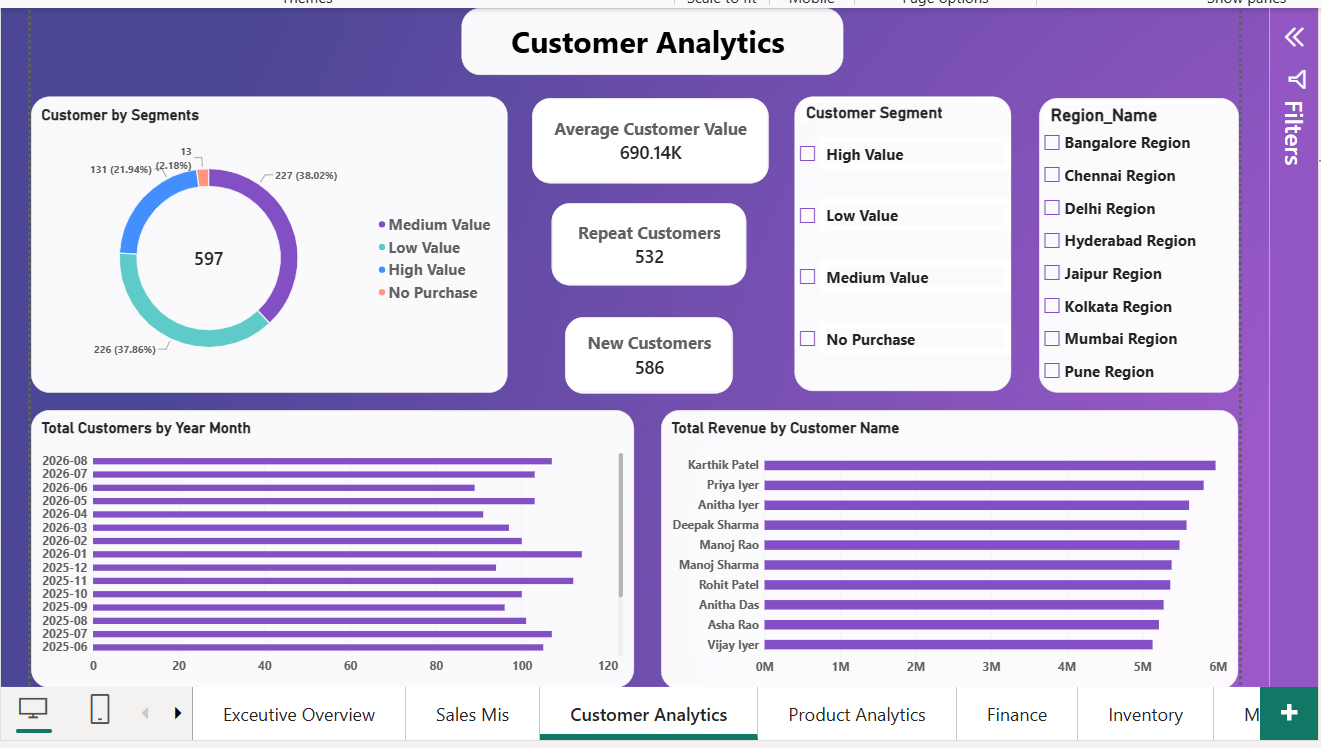

The page's visual inventory and layout, read from the dashboard file:
{"tool":"powerbi","page":{"name":"Customer Analytics ","canvas":[1920,1080],"ordinal":2},"visuals":[{"type":"cardVisual","fields":{"Data":["Measures (2).New Customers"]},"box":[850.1,490.6,267.2,121.7],"z":0},{"type":"cardVisual","fields":{"Data":["Measures (2).Repeat Customers"]},"box":[828.2,310.9,310.2,131.2],"z":1000},{"type":"cardVisual","fields":{"Data":["Measures (2).Average Customer Value"]},"box":[796.7,143.3,377,136],"z":2000},{"type":"donutChart","title":"Customer by Segments","fields":{"Category":["Customer.Customer Segment"],"Y":["CountNonNull(Customer.Customer_ID)"]},"box":[0,140.9,757.8,471.2],"z":3000},{"type":"clusteredBarChart","title":"Total Revenue by Customer Name","fields":{"Category":["Customer.Customer_Name"],"Y":["Measures (2).Total Revenue"]},"box":[1003.1,638.8,918.1,444.5],"z":4000},{"type":"clusteredBarChart","fields":{"Category":["Date Table.Year Month"],"Y":["Measures (2).Total Customers"]},"box":[0,638.8,959.4,442],"z":5000},{"type":"slicer","fields":{"Values":["Region.Region_Name"]},"box":[1603,143.3,318.2,468.8],"z":6000},{"type":"slicer","fields":{"Values":["Customer.Customer Segment"]},"box":[1214.4,140.9,344.9,468.8],"z":7000},{"type":"textbox","box":[684.9,0,607.2,106.9],"z":8000}]}

Visuals, with their boxes on the page's 1920x1080 design canvas (x1, y1, x2, y2). These are canvas units, not pixel positions in the 1321x748 screenshot, which may show the page scaled, cropped or inside an application window:
cardVisual - Measures (2).New Customers: [850,491,1117,612]
cardVisual - Measures (2).Repeat Customers: [828,311,1138,442]
cardVisual - Measures (2).Average Customer Value: [797,143,1174,279]
"Customer by Segments" donutChart: [0,141,758,612]
"Total Revenue by Customer Name" clusteredBarChart: [1003,639,1921,1083]
clusteredBarChart - Date Table.Year Month x Measures (2).Total Customers: [0,639,959,1081]
slicer - Region.Region_Name: [1603,143,1921,612]
slicer - Customer.Customer Segment: [1214,141,1559,610]
textbox: [685,0,1292,107]
